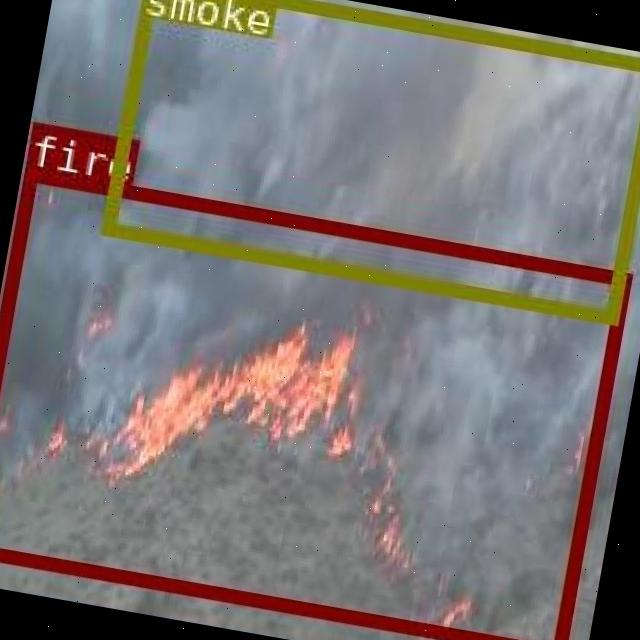fire: (0, 166, 627, 640)
smoke: (100, 0, 640, 322)
